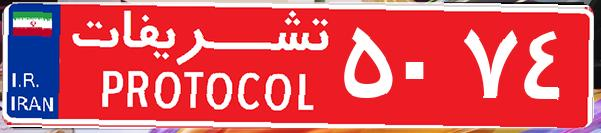0: (400, 20, 460, 115)
4: (520, 20, 580, 115)
5: (340, 20, 400, 115)
7: (460, 20, 520, 115)
تشریفات: (60, 8, 340, 125)
